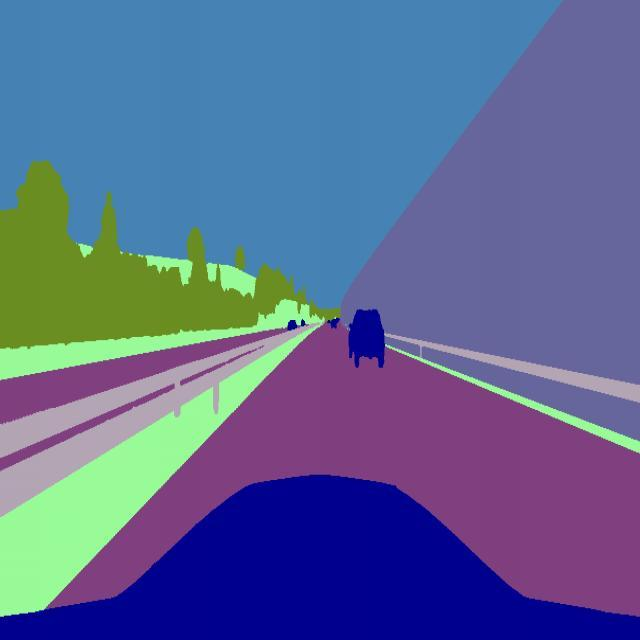safe: (347, 308, 388, 376), (289, 316, 299, 330)
